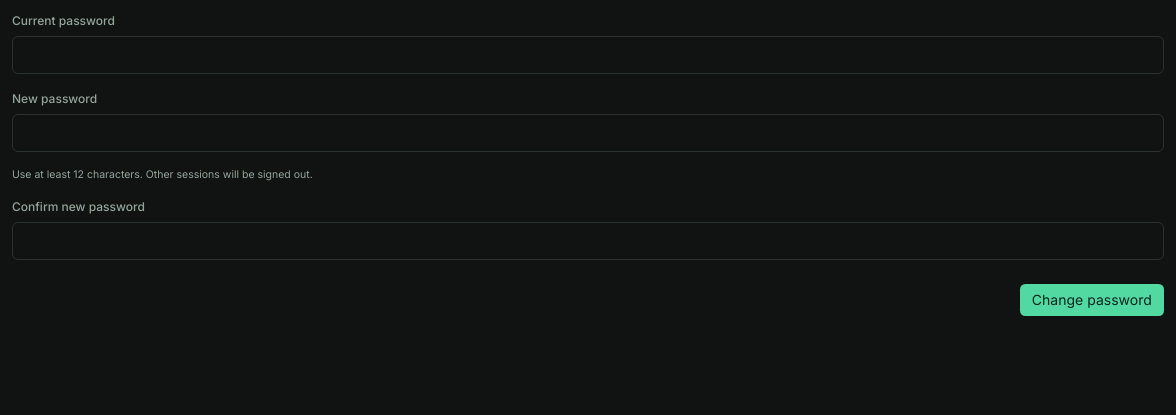
Test: password confirmation prevents submission of mismatched passwords
The width and height of the screenshot is (1176, 415).
Type "current-password-123" into the password field labelled "Current password" at (588, 55), box [12, 36, 1164, 74]
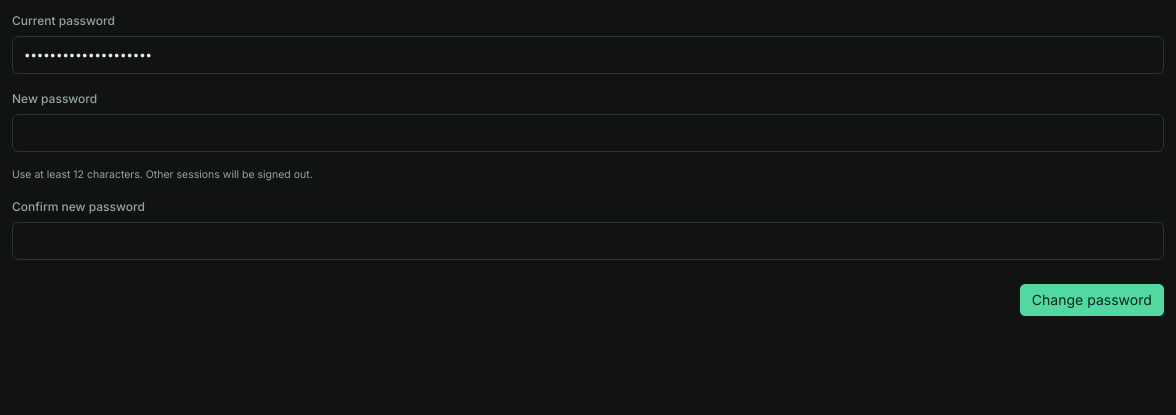
Type "new-password-456" into the password field labelled "New password" at (588, 133), box [12, 114, 1164, 152]
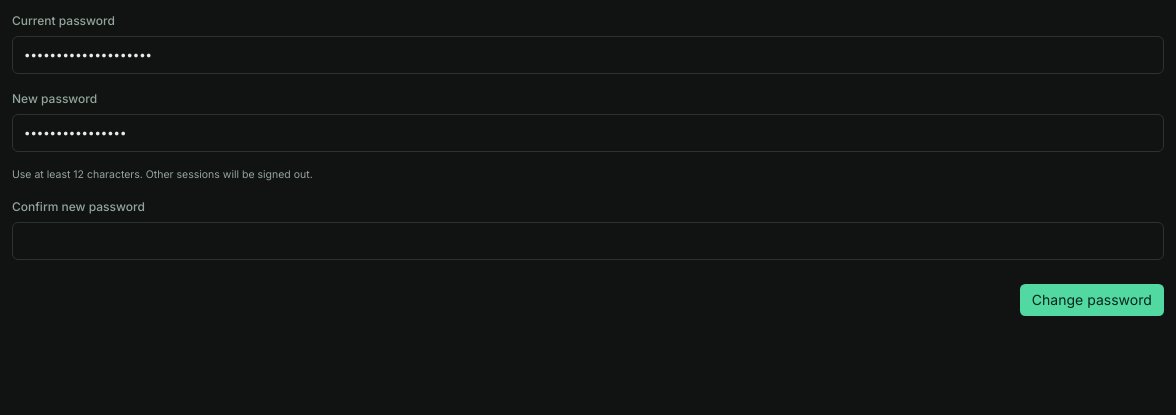
Type "different-password-789" into the password field labelled "Confirm new password" at (588, 241), box [12, 222, 1164, 260]
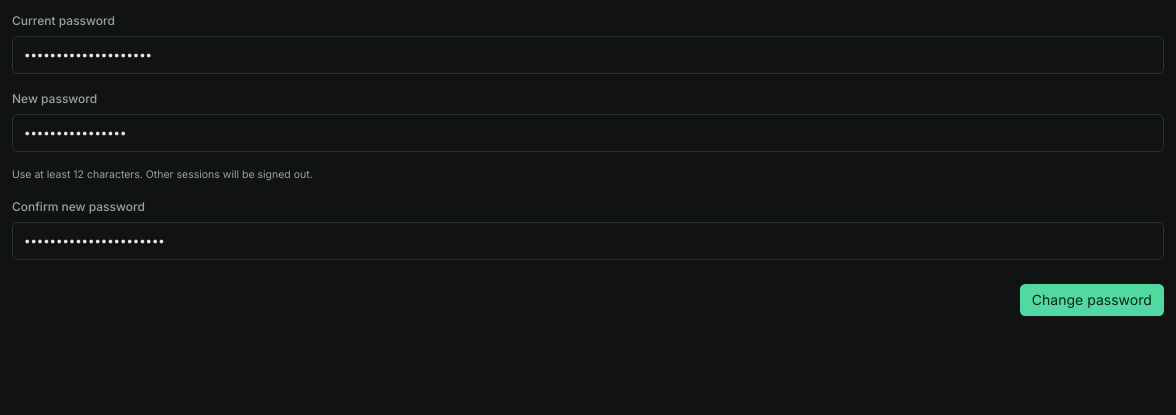
Click the button "Change password" at (1092, 300), box [1020, 284, 1164, 316]
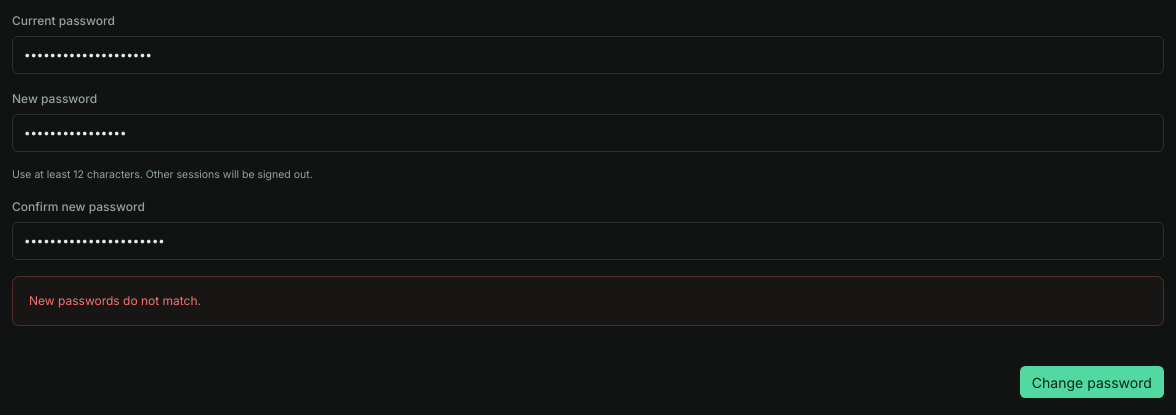
Check: the message shows "do not match", box [29, 293, 201, 308]
